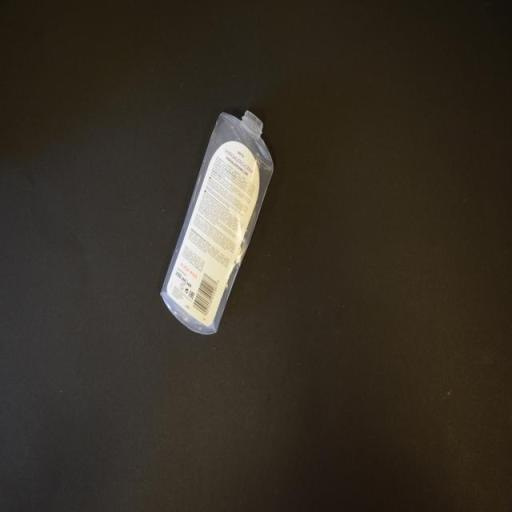plastic: (162, 104, 274, 344)
